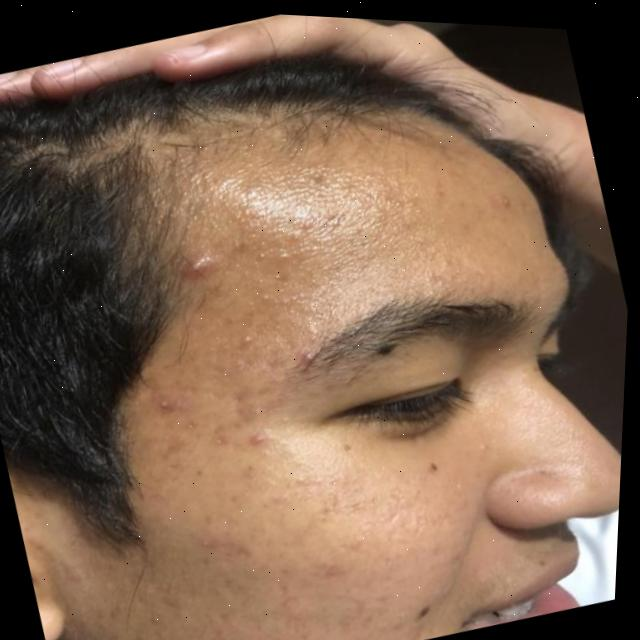Acne: (124, 337, 307, 515), (116, 189, 235, 306)
